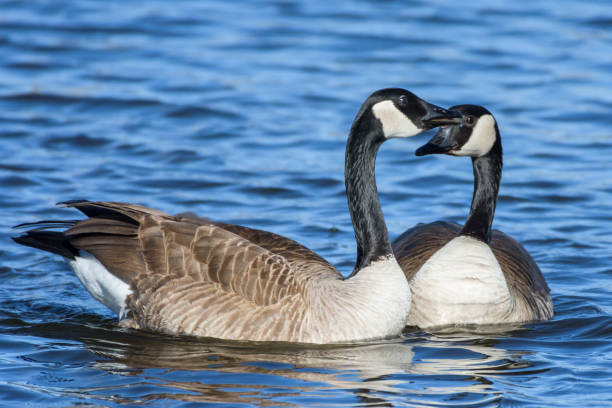goose: (10, 86, 466, 347), (389, 103, 557, 330)
